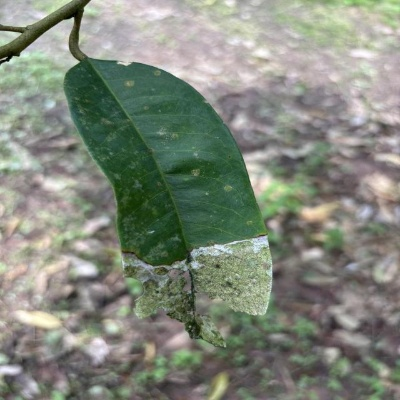Leaf_Blight: (62, 56, 275, 351)
